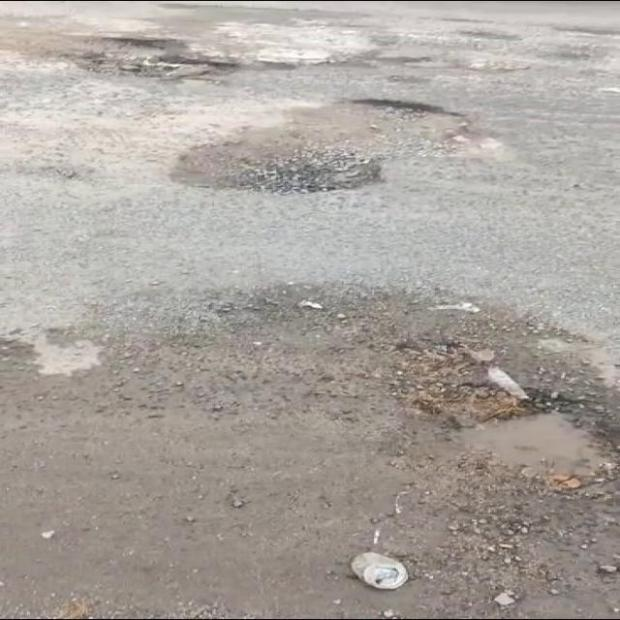lubang: (381, 339, 601, 530), (171, 100, 505, 192), (60, 39, 238, 80)
